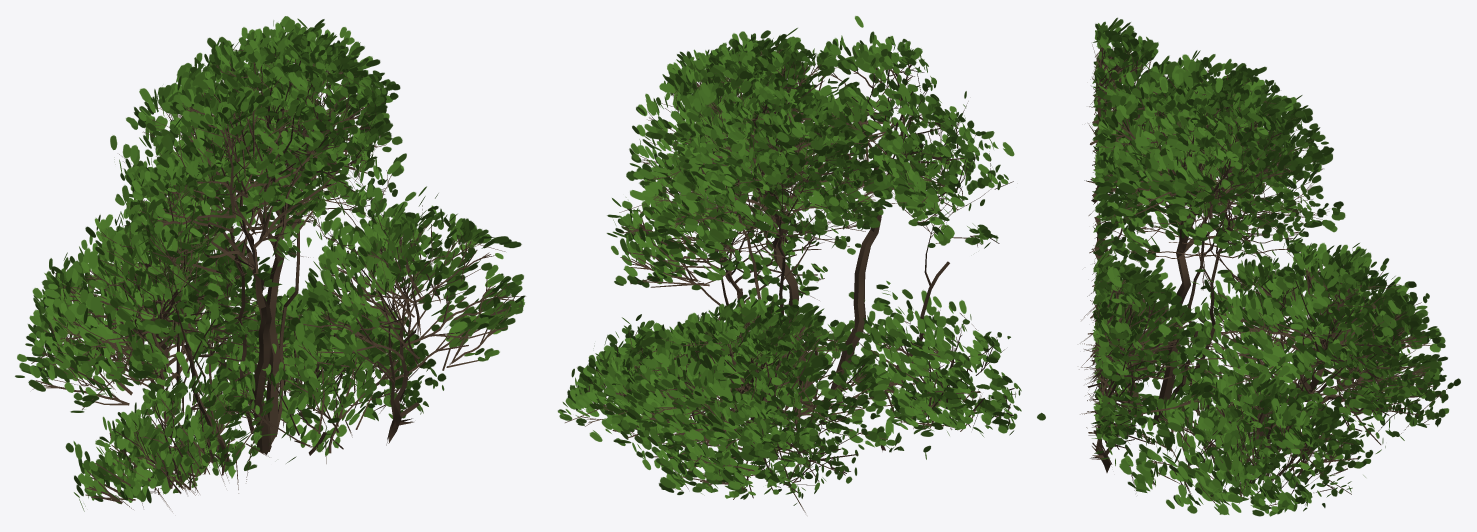
3 views of the same model, side by side, from view 1: azimuth 30°, elevation 25°; view 2: azimuth 150°, elevation 25°; view 3: azimuth 270°, elevation 25° (orthographic). The views are drawn at different scales.
Parts seen in each view (by area): view 1: oak 01.001_trunk_Mat.001_0.241; view 2: oak 01.001_trunk_Mat.001_0.241; view 3: oak 01.001_trunk_Mat.001_0.241.
Boxes of the visible parts, x1,y1,x2,y2 form: oak 01.001_trunk_Mat.001_0.241: [15, 16, 525, 511]; oak 01.001_trunk_Mat.001_0.241: [557, 16, 1045, 512]; oak 01.001_trunk_Mat.001_0.241: [1079, 17, 1460, 516].
Bounding box in the file's own units: 4.57 × 4.03 × 3.48.
Materials: 2 (1 with a texture image).
